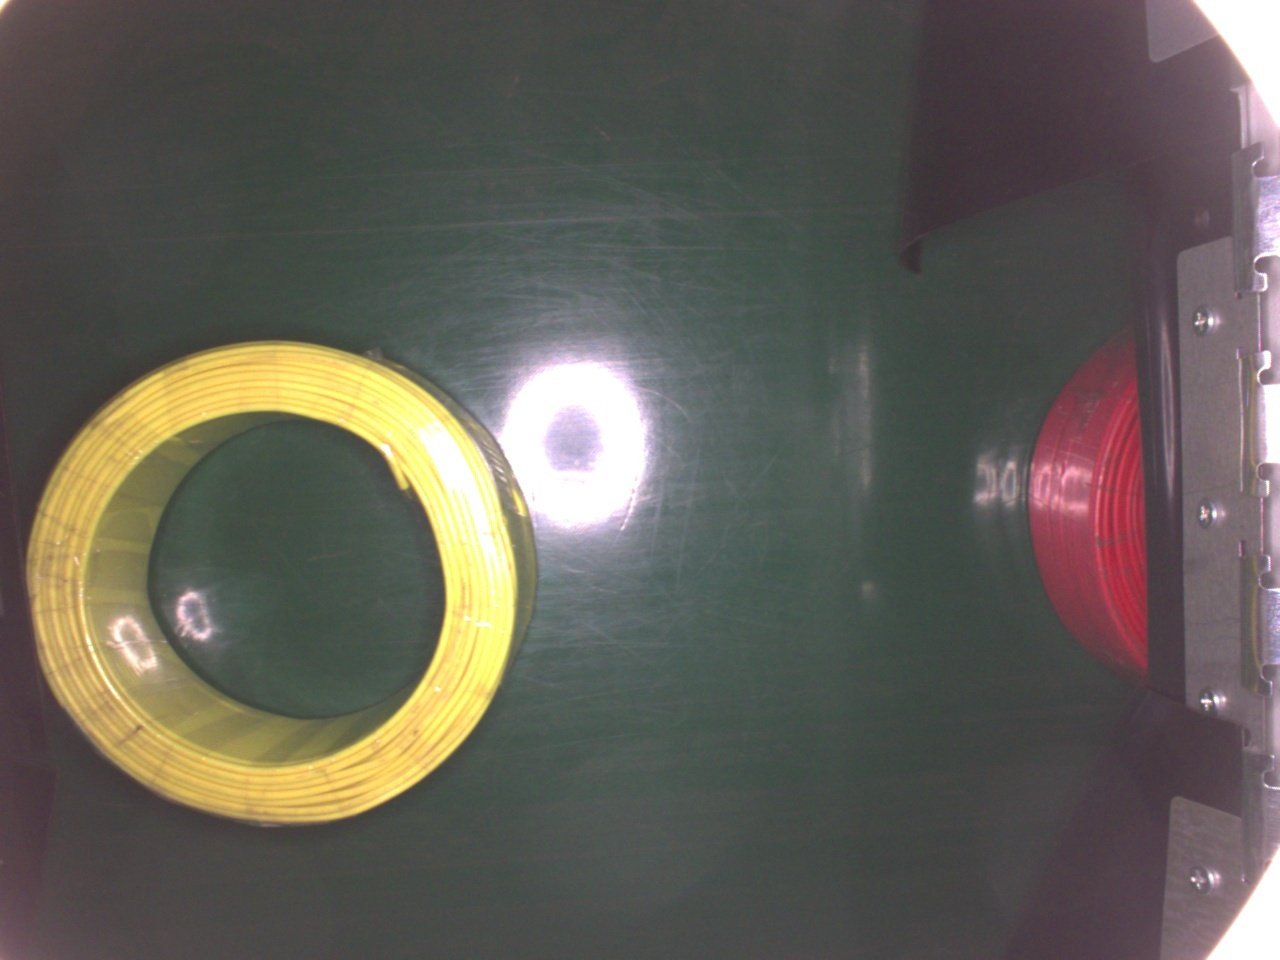red: (1021, 308, 1155, 675)
yellow: (23, 335, 537, 833)
